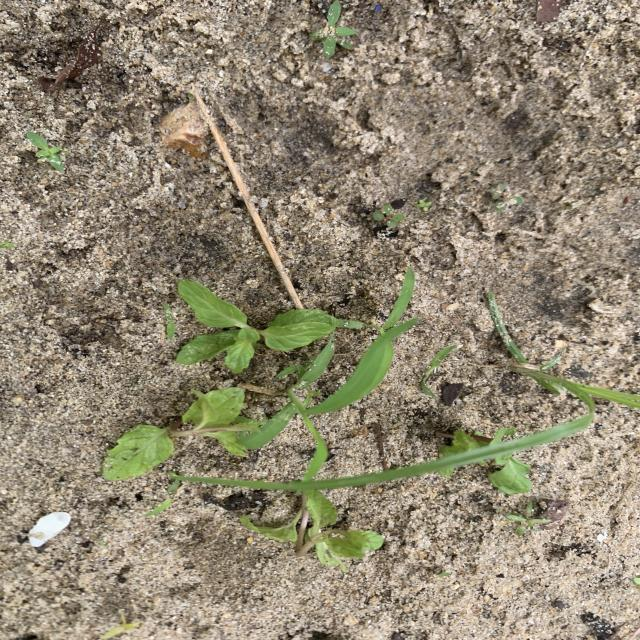crop: (177, 280, 335, 373), (103, 388, 260, 481), (240, 491, 383, 572), (439, 428, 515, 457), (488, 451, 531, 494), (438, 466, 454, 477)
weed: (194, 414, 593, 492), (258, 368, 381, 478), (492, 335, 640, 414), (348, 318, 421, 385), (310, 0, 357, 58), (421, 346, 455, 397), (26, 131, 67, 173), (504, 501, 552, 536), (294, 355, 333, 390), (101, 612, 140, 640), (371, 199, 406, 230), (168, 473, 194, 496), (146, 497, 174, 516), (163, 302, 175, 341), (415, 199, 433, 212), (0, 238, 16, 250)
